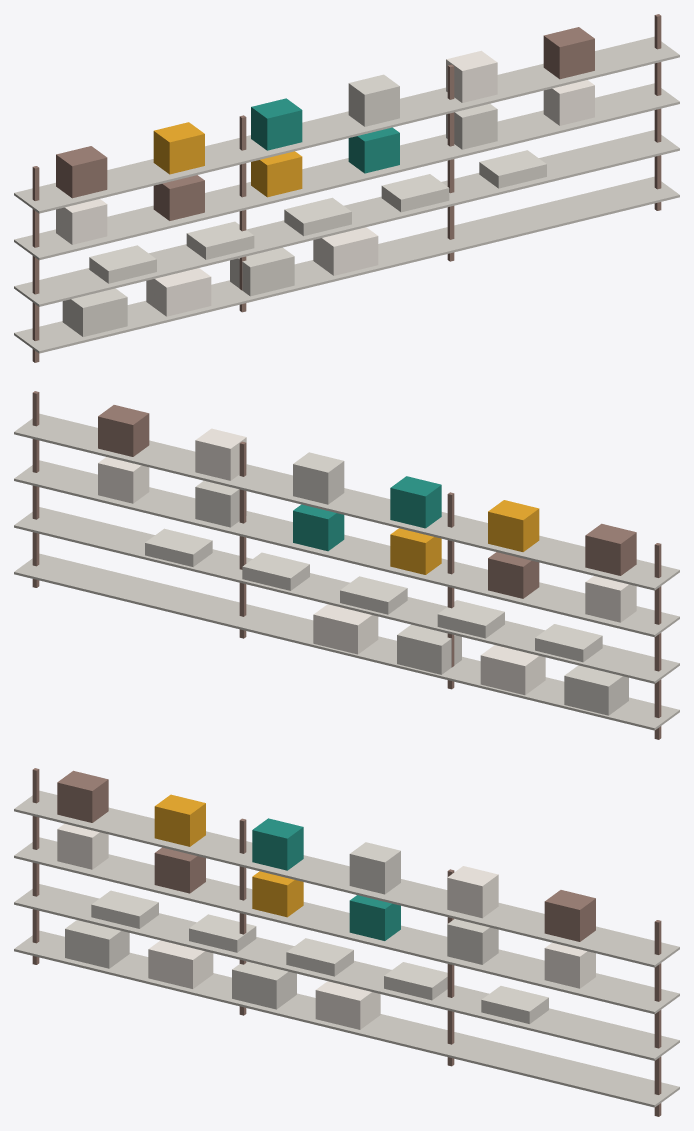
The model's file is bakery_back_shelf.glb.
The picture shows the model from 3 angles, top to bottom: view 1: azimuth 30°, elevation 25°; view 2: azimuth 150°, elevation 25°; view 3: azimuth 330°, elevation 25°; orthographic projection.
Parts seen in each view (by area): view 1: shelf_0, shelf_3, shelf_2, shelf_1, flour_sack_1, flour_sack_3, flour_sack_0, flour_sack_2, supply_box_3_0, supply_box_3_2, supply_box_3_1, supply_box_3_3 (+17 smaller); view 2: shelf_0, shelf_2, shelf_3, shelf_1, flour_sack_1, flour_sack_3, flour_sack_0, flour_sack_2, supply_box_3_2, supply_box_3_0, supply_box_3_3, supply_box_3_1 (+17 smaller); view 3: shelf_0, shelf_2, shelf_3, shelf_1, flour_sack_3, flour_sack_1, flour_sack_0, flour_sack_2, supply_box_3_2, supply_box_3_4, supply_box_3_1, supply_box_3_0 (+17 smaller).
Boxes of the visible parts, left/top/right/bottom form: shelf_0: left=14, top=176, right=679, bottom=353; shelf_3: left=14, top=36, right=679, bottom=213; shelf_2: left=14, top=83, right=679, bottom=260; shelf_1: left=14, top=130, right=679, bottom=306; flour_sack_1: left=146, top=268, right=211, bottom=316; flour_sack_3: left=313, top=227, right=378, bottom=275; flour_sack_0: left=62, top=288, right=127, bottom=336; flour_sack_2: left=230, top=247, right=294, bottom=296; supply_box_3_0: left=56, top=146, right=107, bottom=198; supply_box_3_2: left=251, top=98, right=302, bottom=150; supply_box_3_1: left=153, top=122, right=204, bottom=174; supply_box_3_3: left=348, top=74, right=399, bottom=126; shelf_0: left=14, top=553, right=679, bottom=730; shelf_2: left=14, top=460, right=679, bottom=637; shelf_3: left=14, top=413, right=679, bottom=590; shelf_1: left=14, top=507, right=679, bottom=683; flour_sack_1: left=480, top=645, right=545, bottom=695; flour_sack_3: left=313, top=604, right=378, bottom=654; flour_sack_0: left=564, top=665, right=628, bottom=715; flour_sack_2: left=397, top=624, right=461, bottom=674; supply_box_3_2: left=390, top=476, right=441, bottom=528; supply_box_3_0: left=585, top=523, right=636, bottom=575; supply_box_3_3: left=293, top=452, right=344, bottom=504; supply_box_3_1: left=488, top=500, right=539, bottom=551; shelf_0: left=14, top=930, right=679, bottom=1107; shelf_2: left=14, top=837, right=679, bottom=1014; shelf_3: left=14, top=790, right=679, bottom=967; shelf_1: left=14, top=884, right=679, bottom=1060; flour_sack_3: left=315, top=981, right=380, bottom=1029; flour_sack_1: left=148, top=940, right=213, bottom=988; flour_sack_0: left=65, top=920, right=129, bottom=968; flour_sack_2: left=232, top=961, right=296, bottom=1009; supply_box_3_2: left=252, top=818, right=303, bottom=870; supply_box_3_4: left=447, top=866, right=498, bottom=918; supply_box_3_1: left=154, top=794, right=205, bottom=846; supply_box_3_0: left=57, top=770, right=108, bottom=822.
Bounding box in the file's own units: 6.9 × 2 × 0.47.
